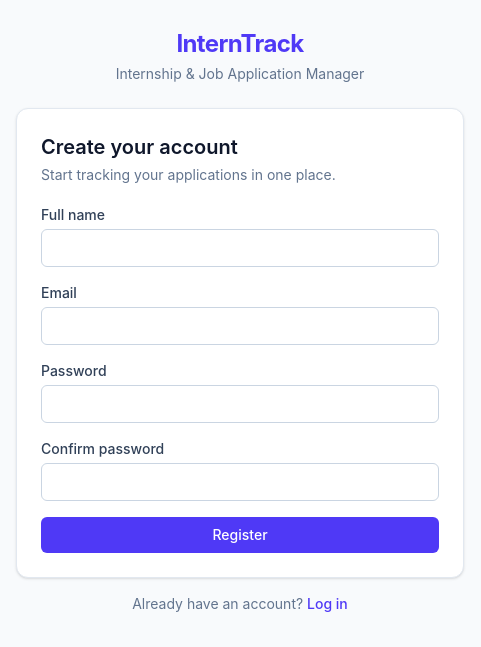
Register page › blocks invalid input 0
Step 1. Type "a@b.com" into the field labelled "Email" → point(240, 326), box [41,307,439,345]
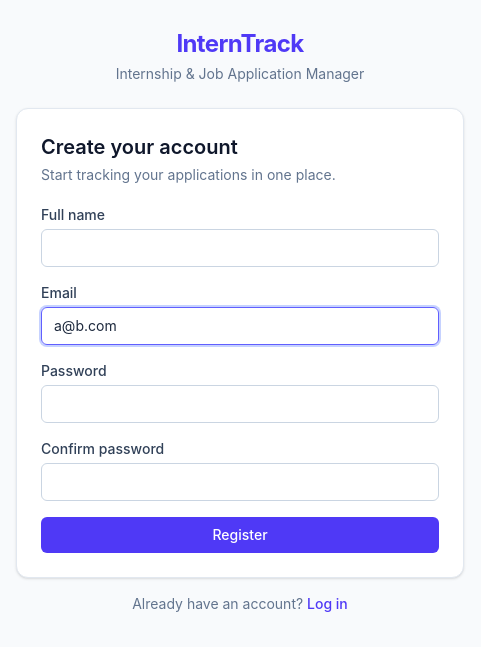
Step 2. Type "secret1" into the password field labelled "Password" → point(240, 404), box [41,385,439,423]
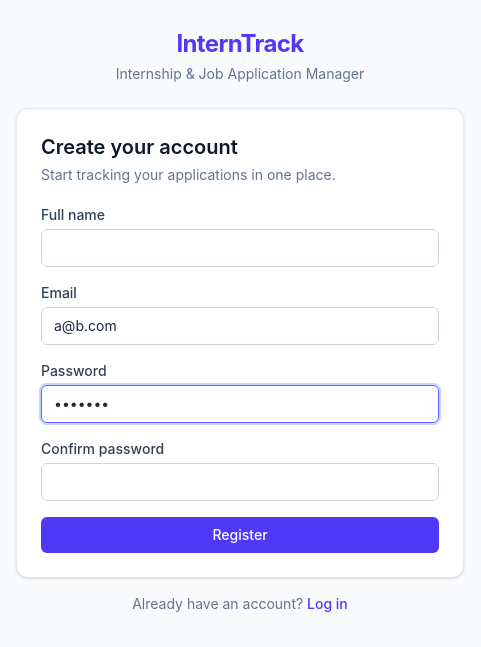
Step 3. Type "secret1" into the password field labelled "Confirm password" → point(240, 482), box [41,463,439,501]
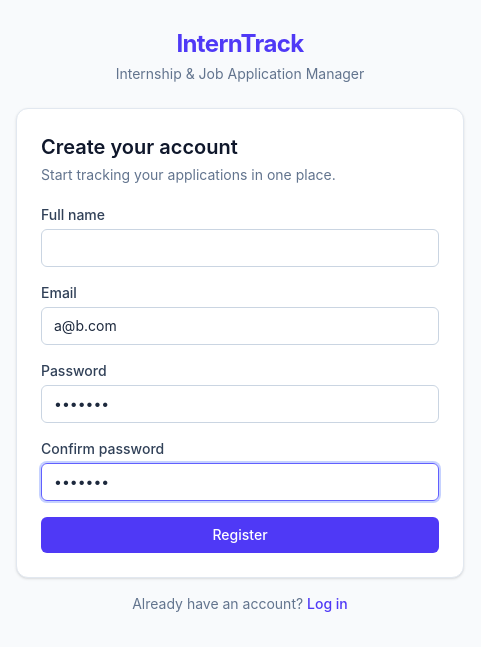
Step 4. Click the button "Register" → point(240, 535), box [41,517,439,553]
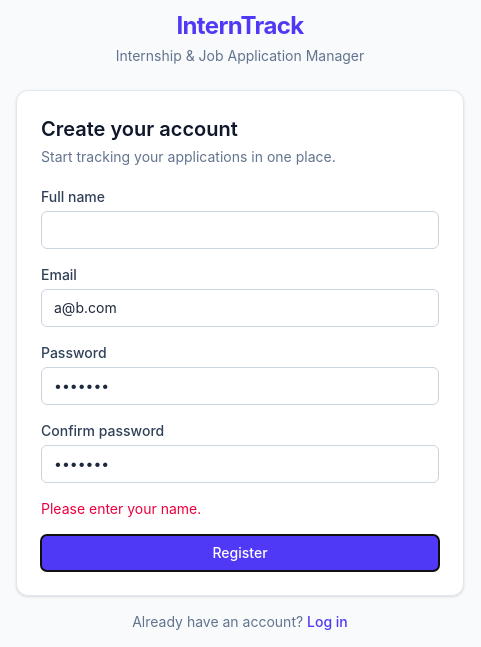
Result: the message reads "Please enter your name." at [41,500,201,517]
